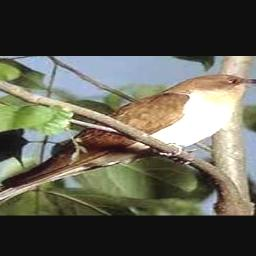Cuckoo: (0, 74, 256, 204)
